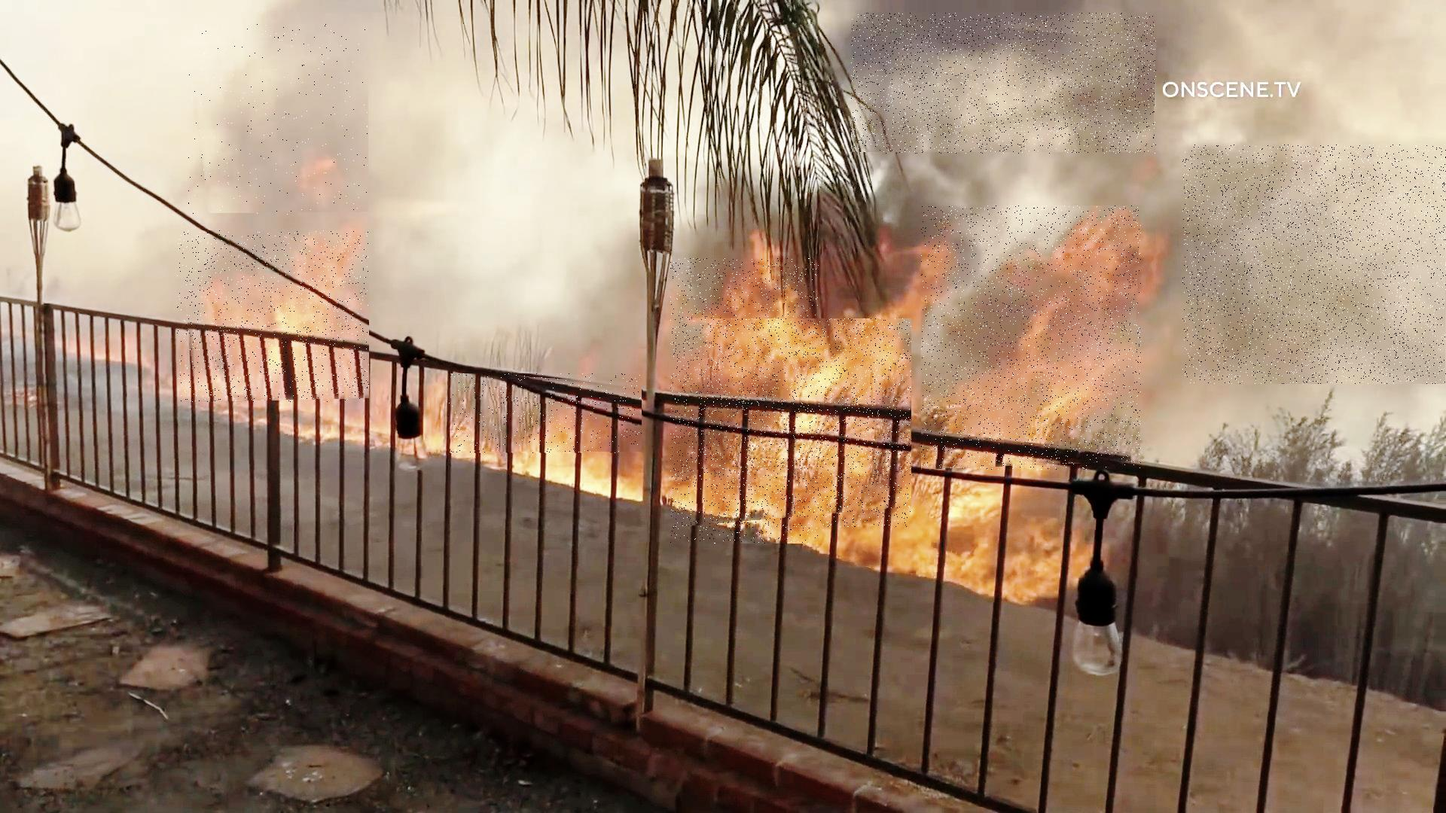fire: (921, 206, 1141, 470), (674, 319, 911, 527), (670, 258, 819, 544), (177, 230, 369, 402), (449, 374, 644, 454)
smoke: (1182, 145, 1446, 384), (851, 13, 1156, 154), (189, 25, 369, 215)
